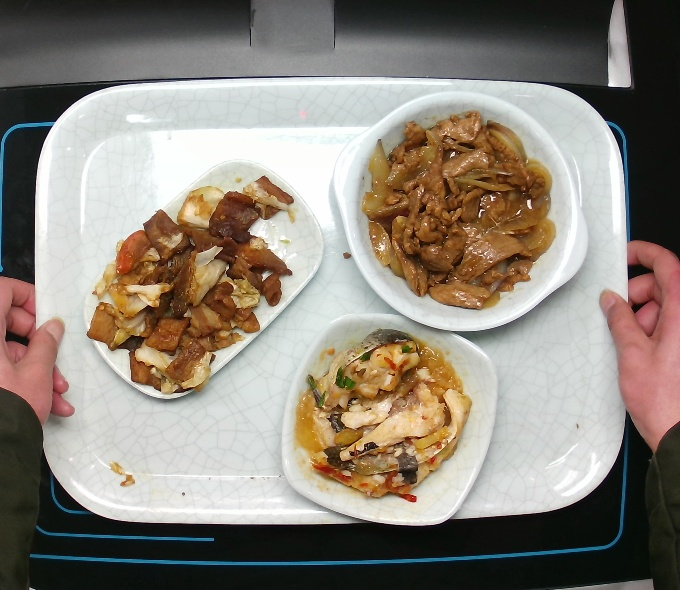wcq-DuoJiaoYuKuai: (290, 327, 485, 508)
wcq-PaoCaiRouPian: (79, 166, 312, 407)
wcq-YangCongRouPian: (351, 102, 574, 322)
